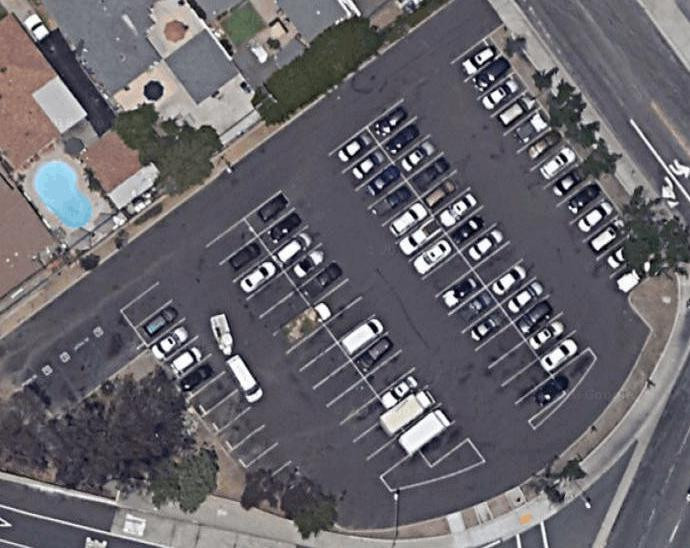parkingspot: (324, 124, 567, 427), (242, 186, 473, 469), (365, 94, 593, 380), (203, 216, 418, 483), (446, 34, 654, 302), (119, 278, 310, 494), (30, 343, 102, 417), (83, 306, 150, 377)
